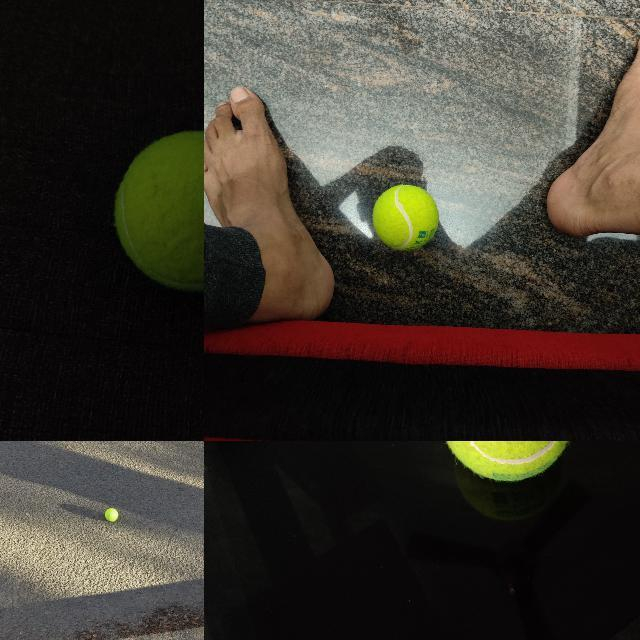tennis-ball: (112, 130, 203, 289), (440, 441, 574, 482), (372, 184, 439, 250), (104, 507, 118, 521)
